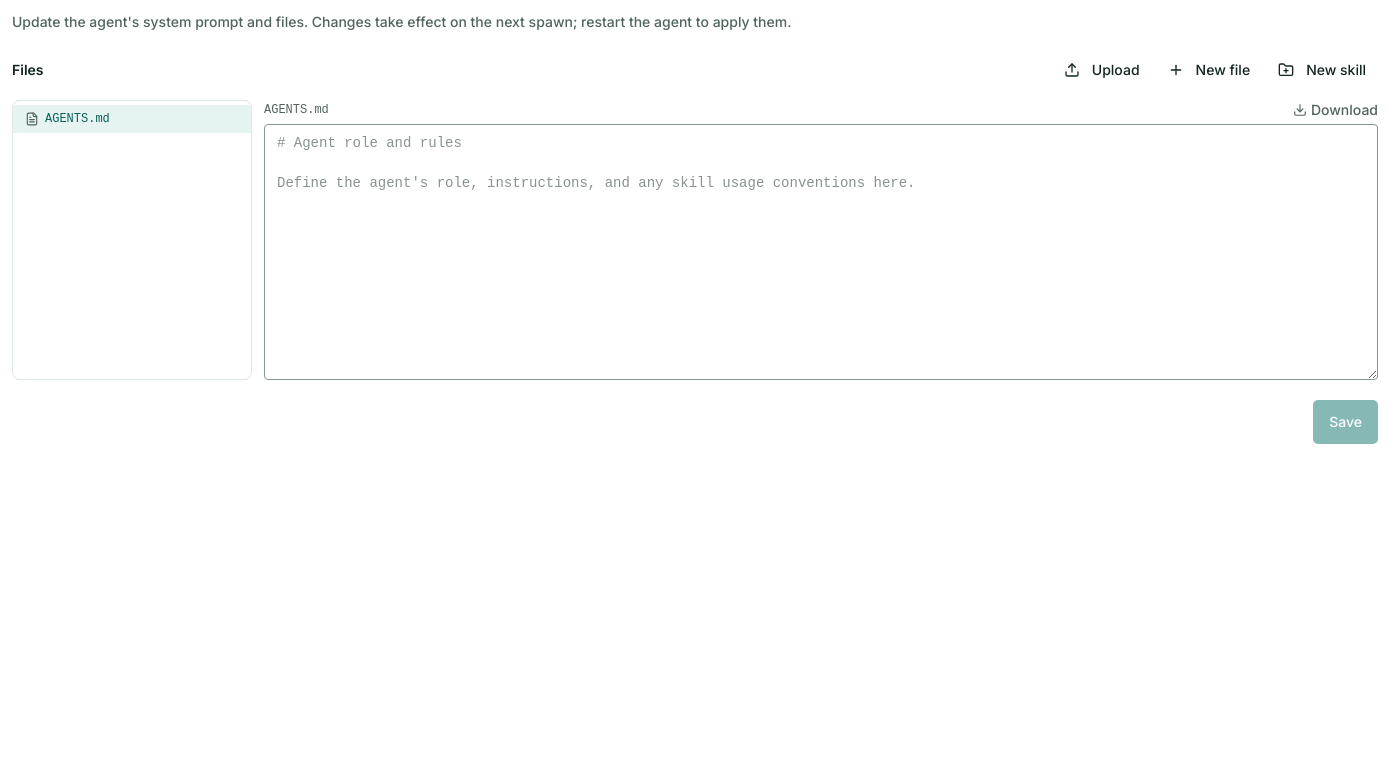
ManifestPanel — upload/download › rejects Add when the path extension is not in the server whitelist
The image size is (1390, 780).
Check: the button with test id "agent-edit-upload" is shown, box [1052, 48, 1152, 92]
Click the button with test id "agent-edit-toggle-new-file": coordinates (1209, 70) [1156, 48, 1262, 92]
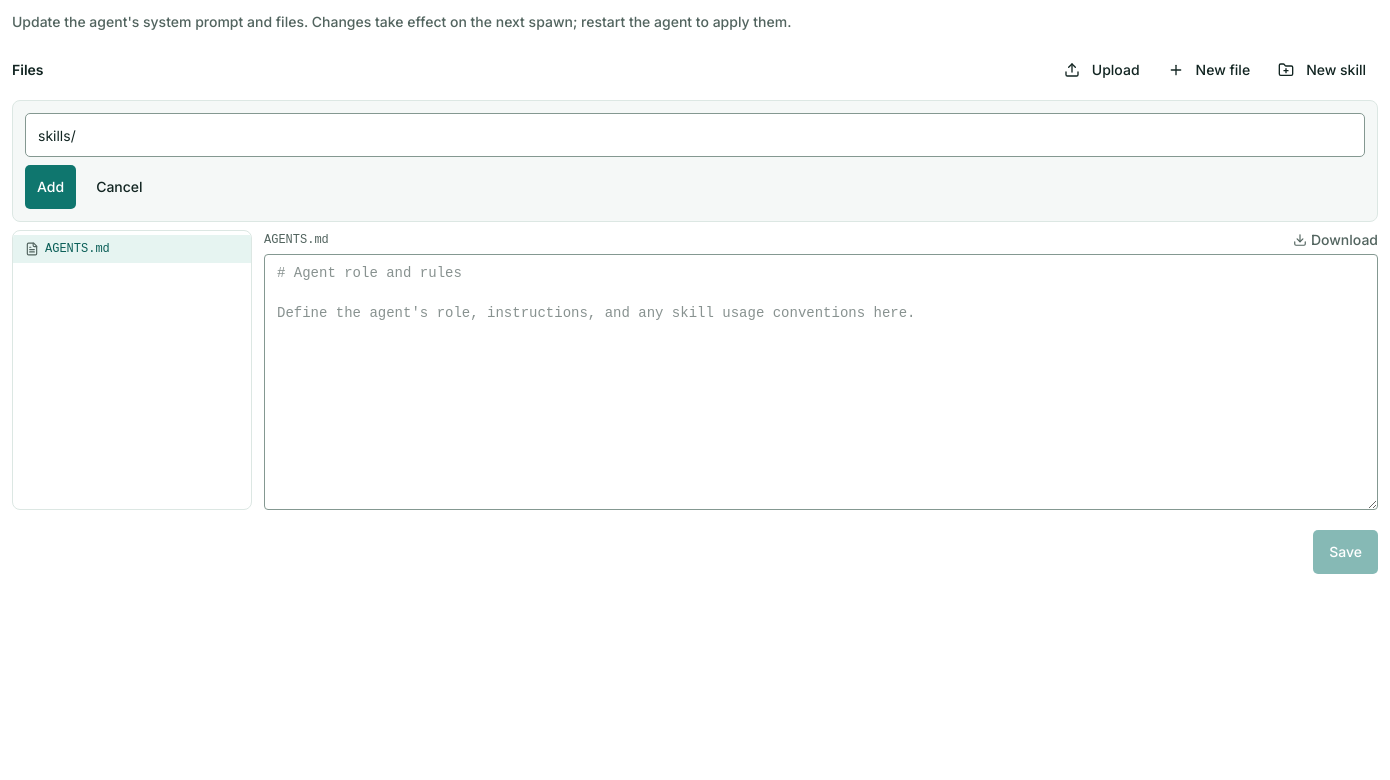
Replace the text in the field with test id "agent-edit-new-file-path" with "skills/do.bash": coordinates (695, 135) [25, 113, 1365, 157]
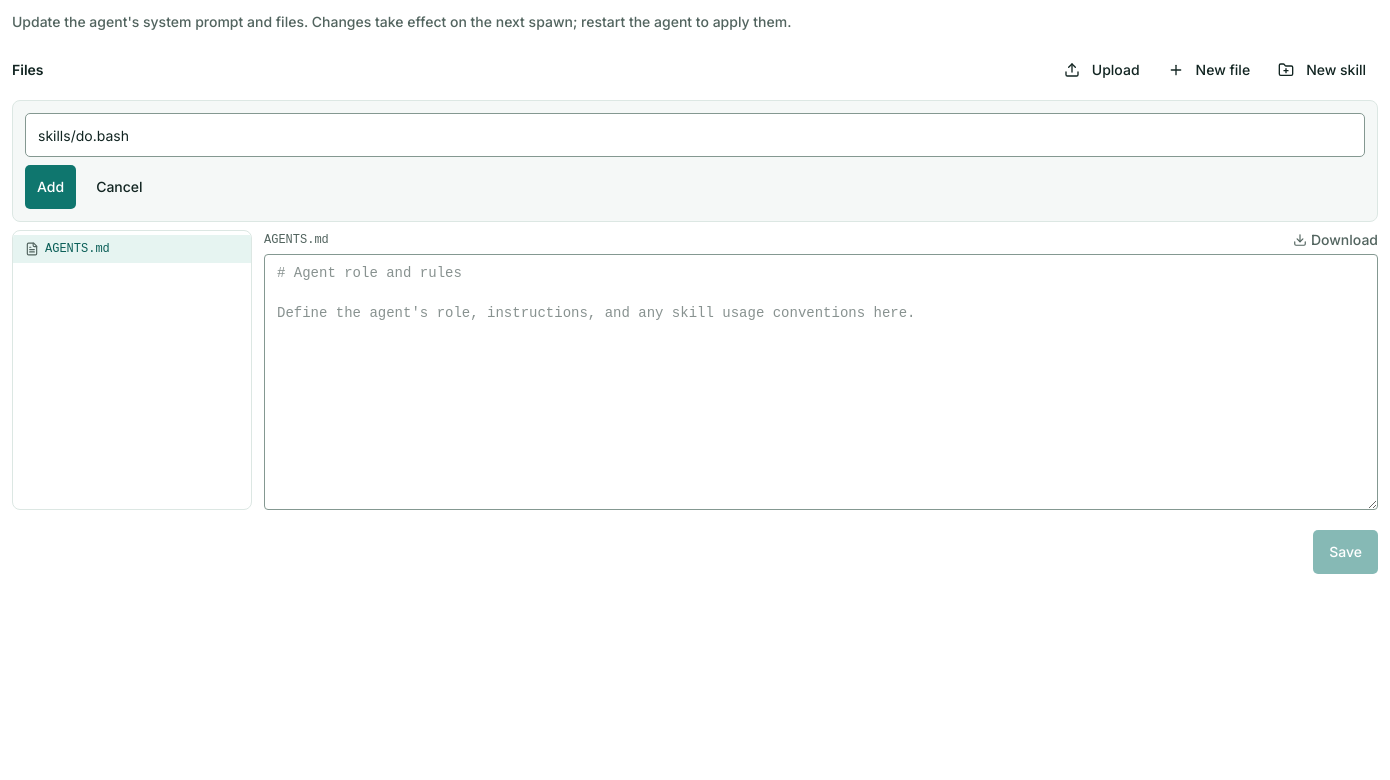
Click the button "Add": coordinates (51, 187) [25, 165, 76, 209]
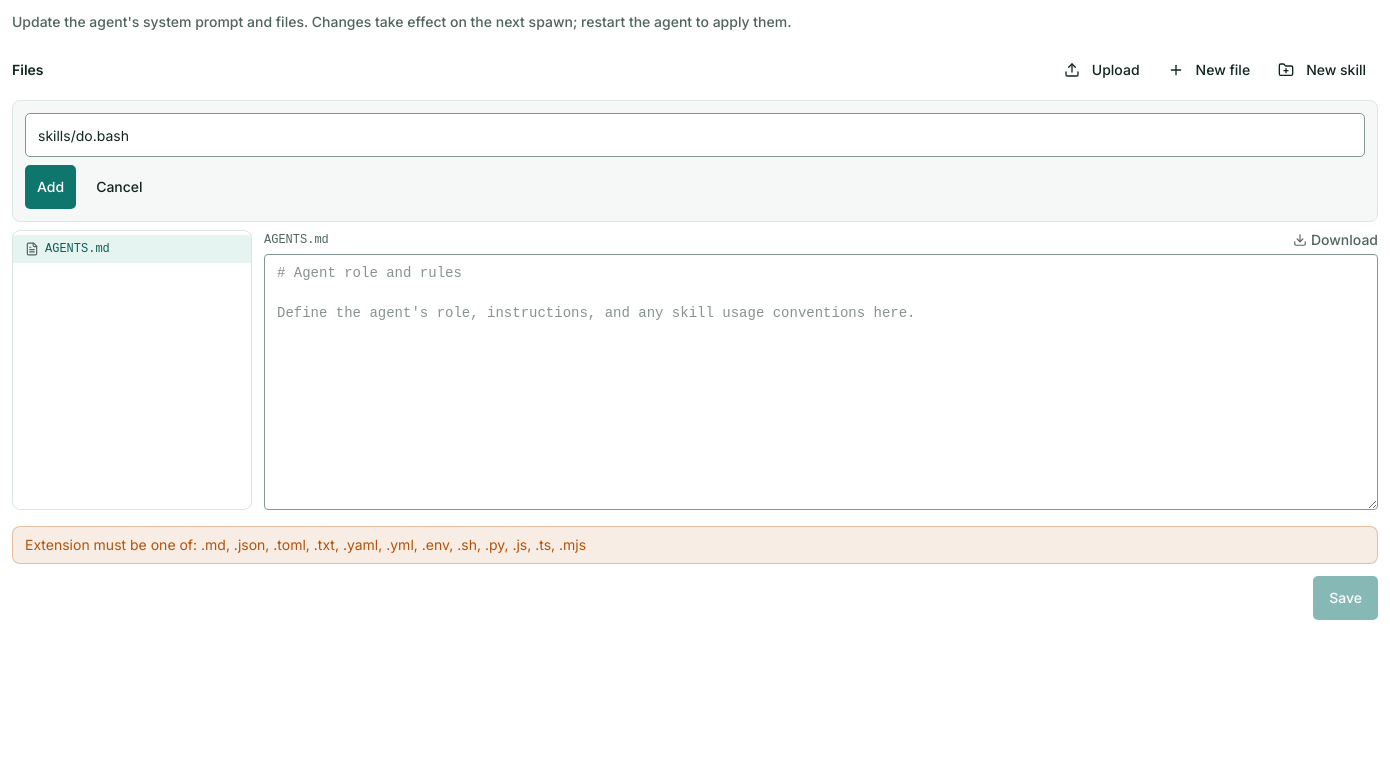
Check: the text "Extension must be one of" is shown, box [25, 536, 586, 553]
